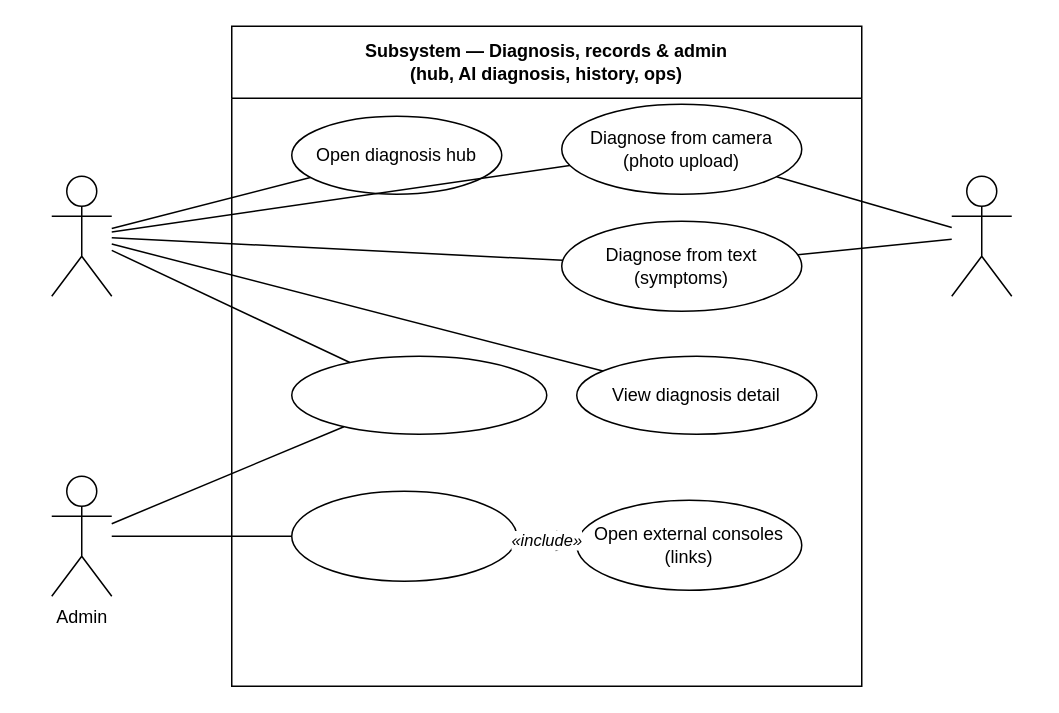
The diagram is 1059 pixels wide and 713 high, and some of its shapes have lost their labels. The box of each missing label's shape, as (x1, y1, x2, y2) in pixels:
Access admin tools (role-gated): (290, 490, 517, 581)
AI Vision (EfficientNet): (950, 175, 1012, 296)
Farmer / User: (50, 175, 112, 296)
View diagnosis history: (290, 355, 547, 434)
